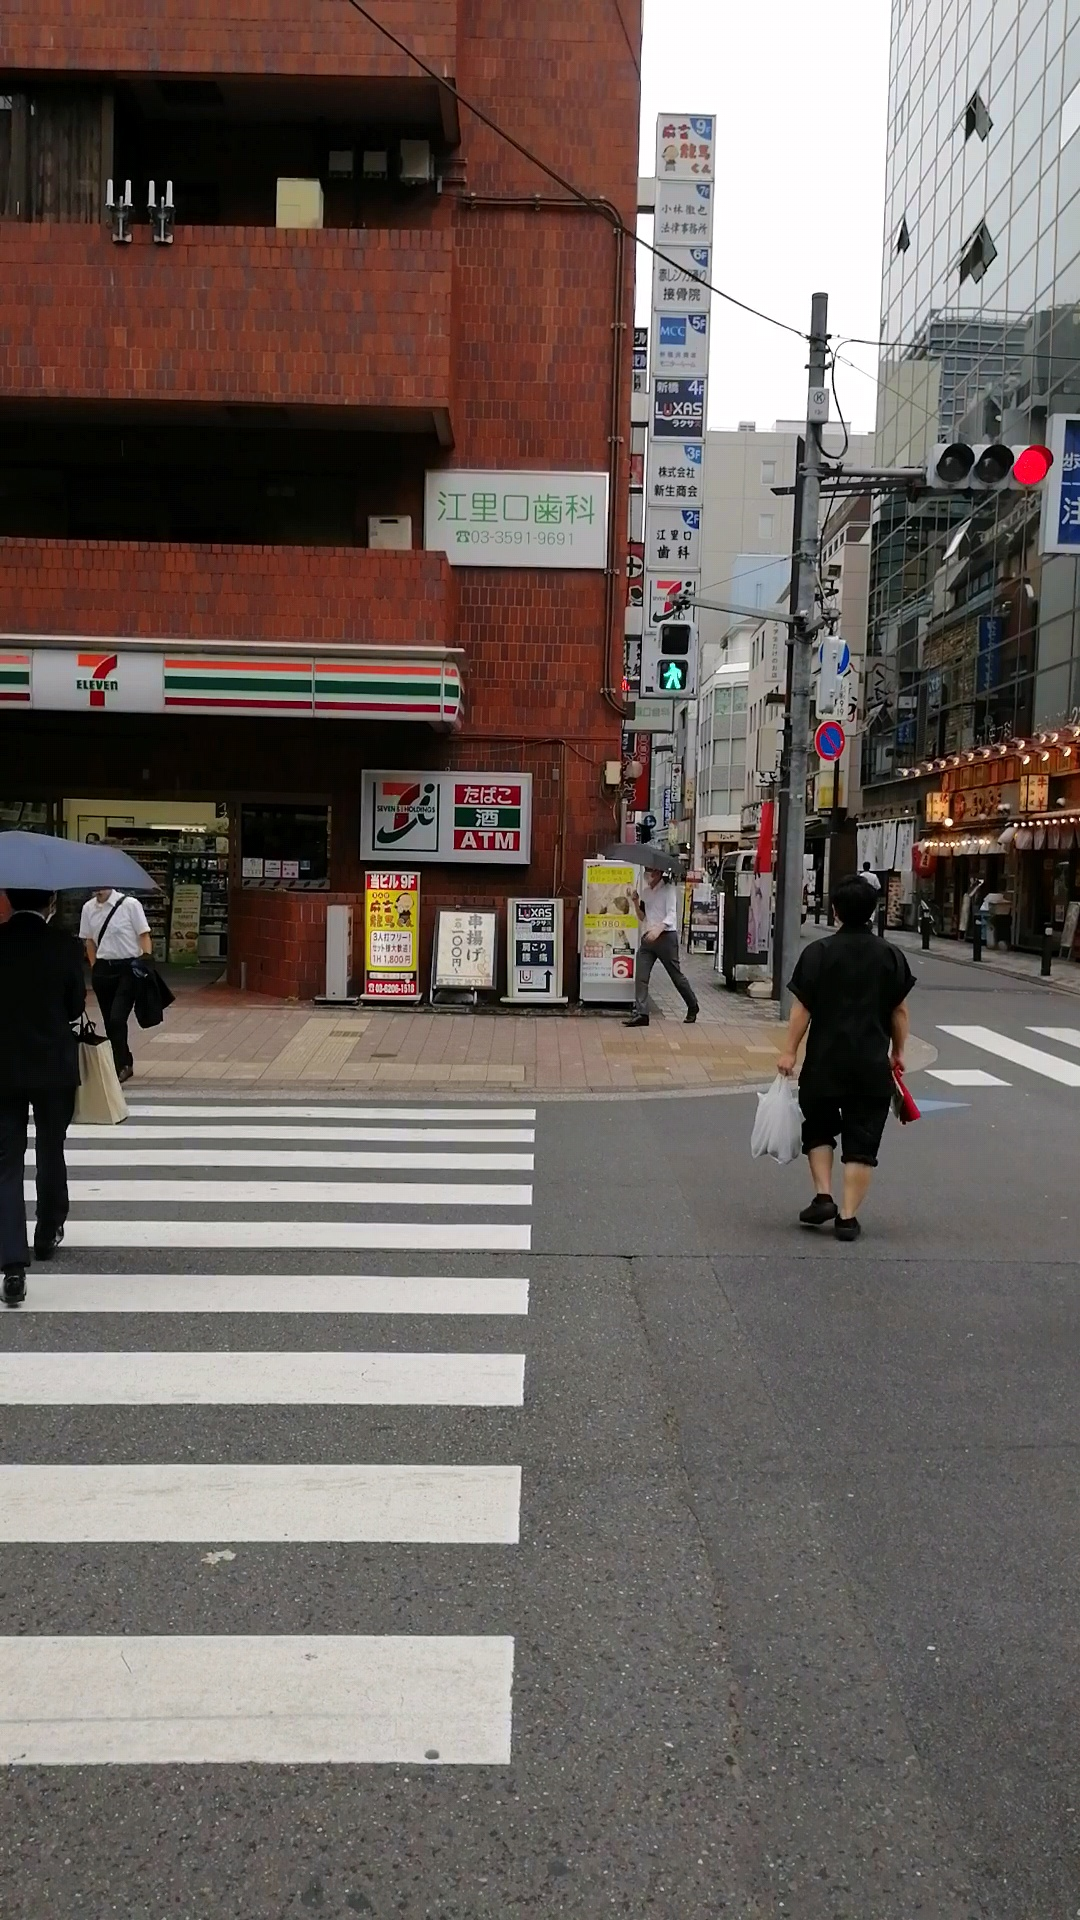green: (655, 620, 694, 699)
